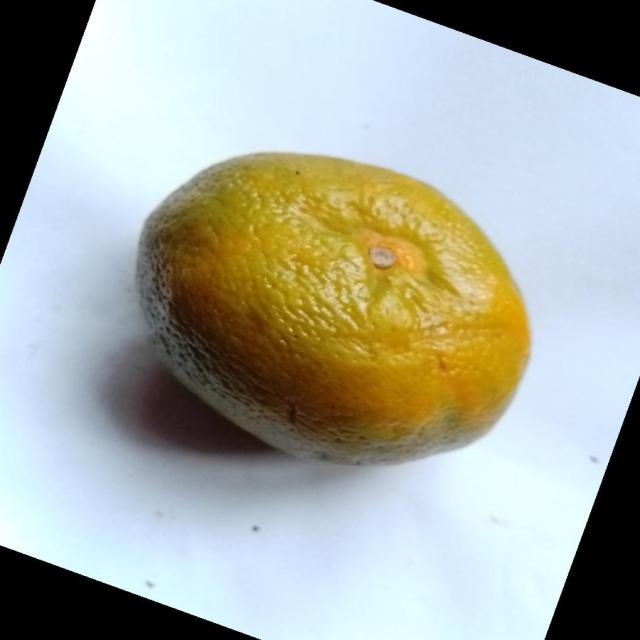agrume: (134, 149, 532, 467)
